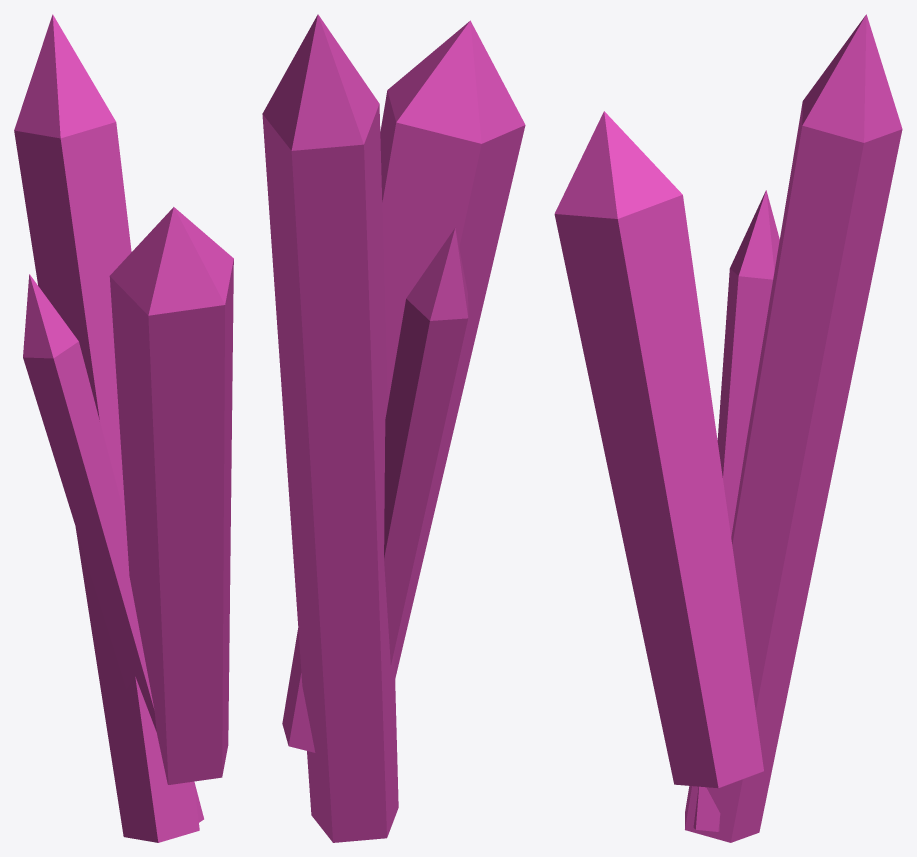
File: small_crystals_12_3.fbx
3 views of the same model, side by side, from view 1: azimuth 30°, elevation 25°; view 2: azimuth 150°, elevation 25°; view 3: azimuth 270°, elevation 25° (orthographic). The views are drawn at different scales.
Parts seen in each view (by area): view 1: small crystals.020; view 2: small crystals.020; view 3: small crystals.020.
Part boxes in pixels (x1,y1,x2,y2): small crystals.020: (14,14,233,842); small crystals.020: (262,14,525,842); small crystals.020: (554,14,902,842).
Size of the model in its own units: 68.67 by 277 by 109.
